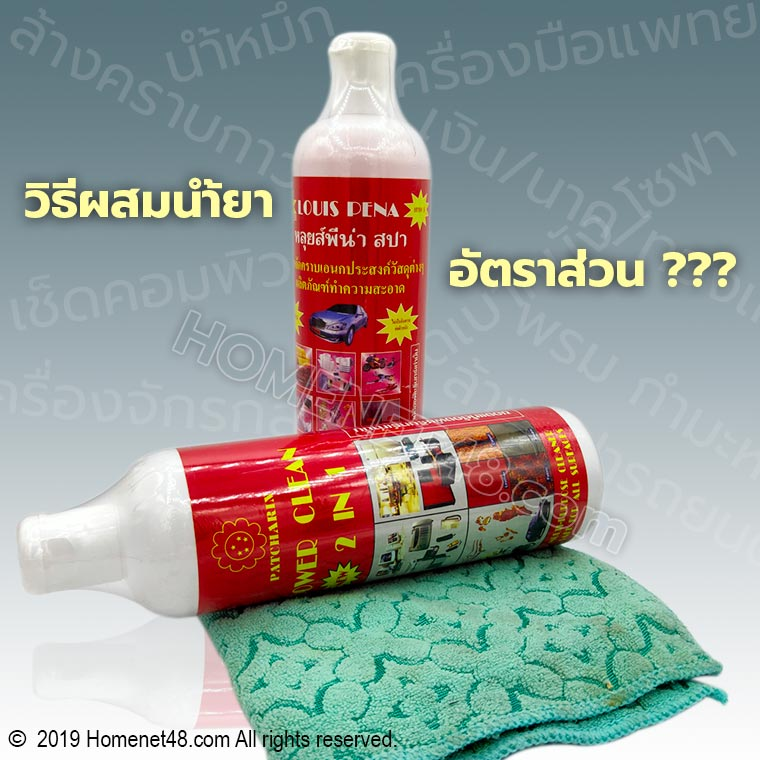Cleaning_solution: (10, 397, 613, 631), (283, 22, 439, 424)
